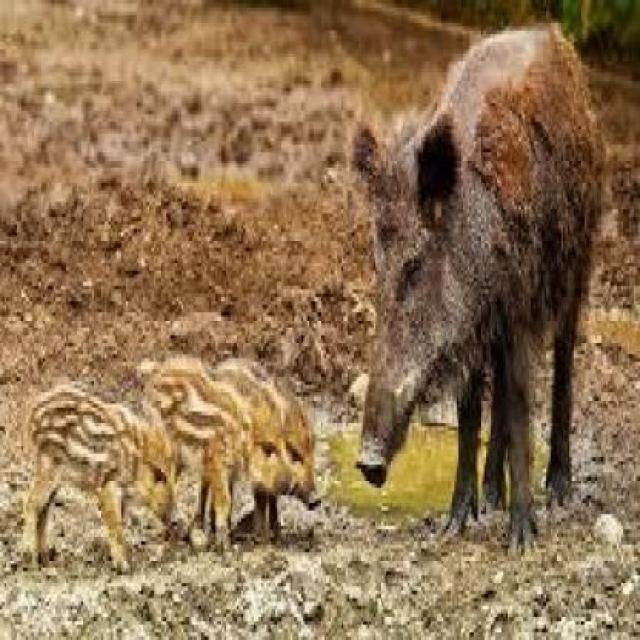wildboar: (349, 18, 603, 564), (142, 350, 300, 562), (26, 380, 189, 578), (210, 342, 322, 553)
